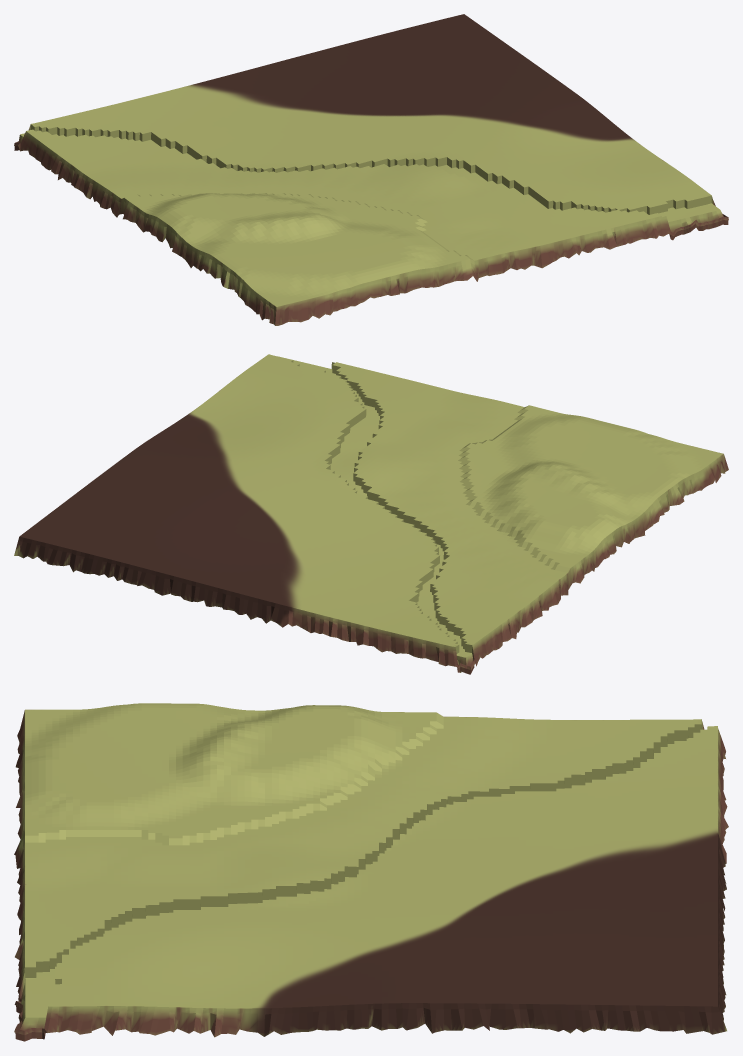
The model's file is map_v1.glb.
3 renders of one model, top to bottom at view 1: azimuth 30°, elevation 25°; view 2: azimuth 150°, elevation 25°; view 3: azimuth 270°, elevation 25°, orthographic. The views are drawn at different scales.
Visible parts, largest first — view 1: Map; view 2: Map; view 3: Map.
Part boxes in pixels (x1=…): Map: x1=14, y1=14, x2=728, y2=325; Map: x1=14, y1=354, x2=728, y2=674; Map: x1=14, y1=703, x2=728, y2=1041.
Bounding box in the file's own units: 206 × 20 × 206.
1 material, 1 textured.
